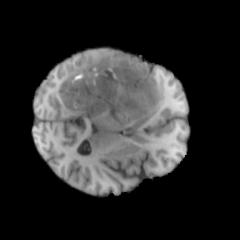glioma: (51, 50, 164, 125)
